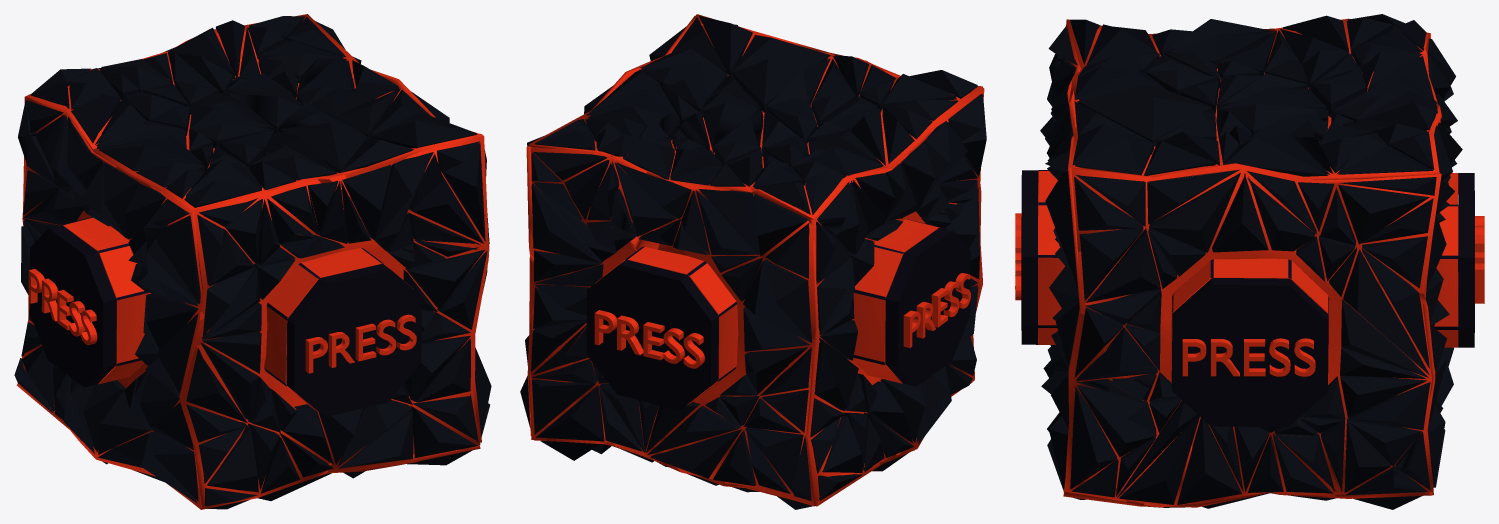
Rendered from CUBE_PRESS_GLTF.gltf.
3 renders of one model, left to right at view 1: azimuth 30°, elevation 25°; view 2: azimuth 150°, elevation 25°; view 3: azimuth 270°, elevation 25°, orthographic. The views are drawn at different scales.
Visible parts, largest first — view 1: triangles, plug2, sides, plug1; view 2: triangles, plug4, sides, plug1; view 3: triangles, plug3, sides, plug2, plug4.
Boxes of the visible parts, x1,y1,x2,y2 form: triangles: [14, 16, 491, 509]; plug2: [264, 248, 421, 416]; sides: [16, 14, 489, 509]; plug1: [28, 217, 150, 387]; triangles: [520, 16, 986, 509]; plug4: [586, 246, 738, 410]; sides: [526, 14, 984, 506]; plug1: [852, 219, 970, 386]; triangles: [1040, 14, 1462, 509]; plug3: [1170, 258, 1329, 427]; sides: [1063, 18, 1441, 507]; plug2: [1015, 170, 1065, 344]; plug4: [1433, 173, 1484, 347].
Bounding box in the file's own units: 3.03 × 2.62 × 3.
